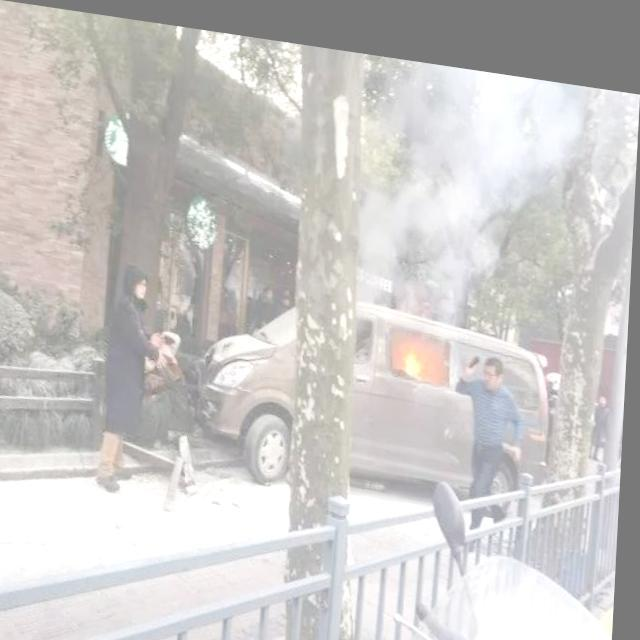Fire: (398, 324, 439, 372)
